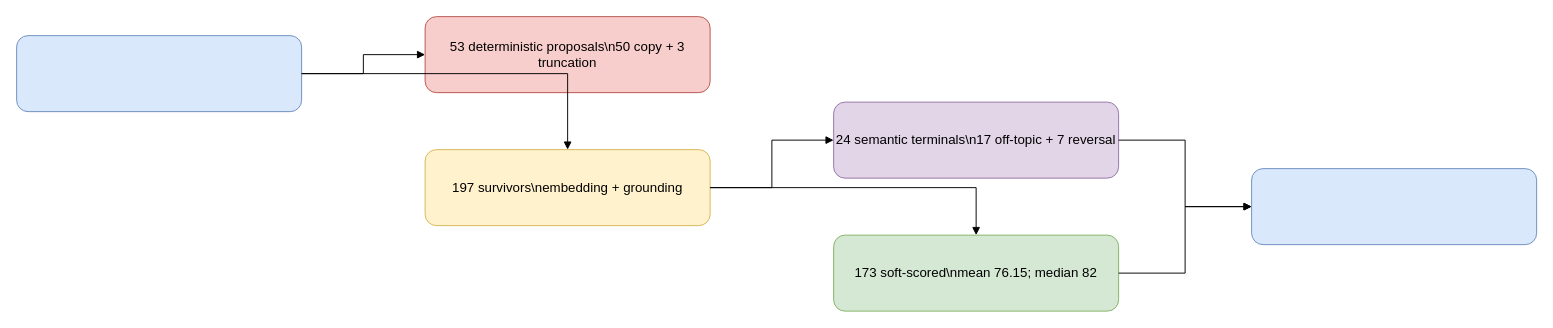
This 1553x328 diagram has some shape labels left out. The centre of each missing label's shape, as x and y in pixels:
250 final reviewed rows\n0 escalated; 155 revised: the point at 1394,206
250 total pairs\n50 articles × 5 candidates: the point at 159,73
